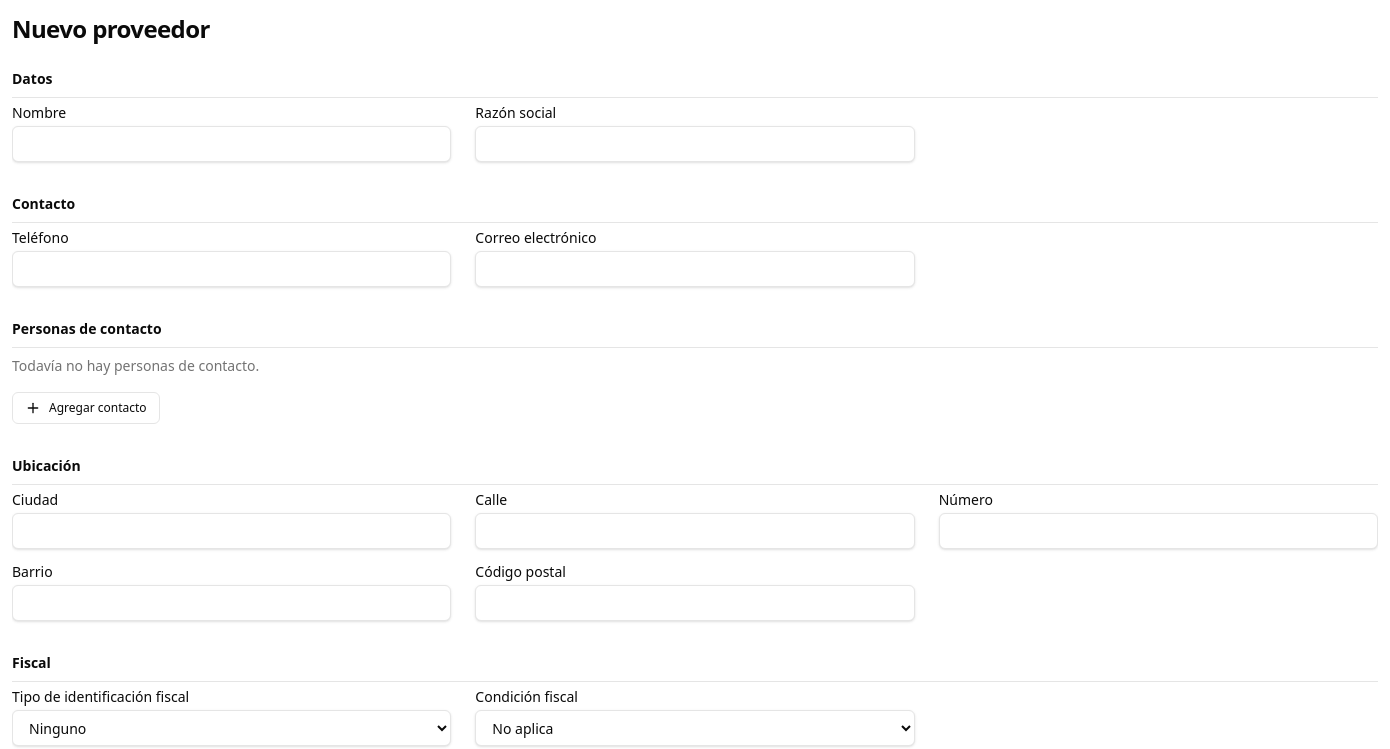
Test: SupplierForm › shows the server message for a 400
Type "Norte" into the field labelled "Nombre" at (232, 144), box [12,126,451,162]
(page scrolled)
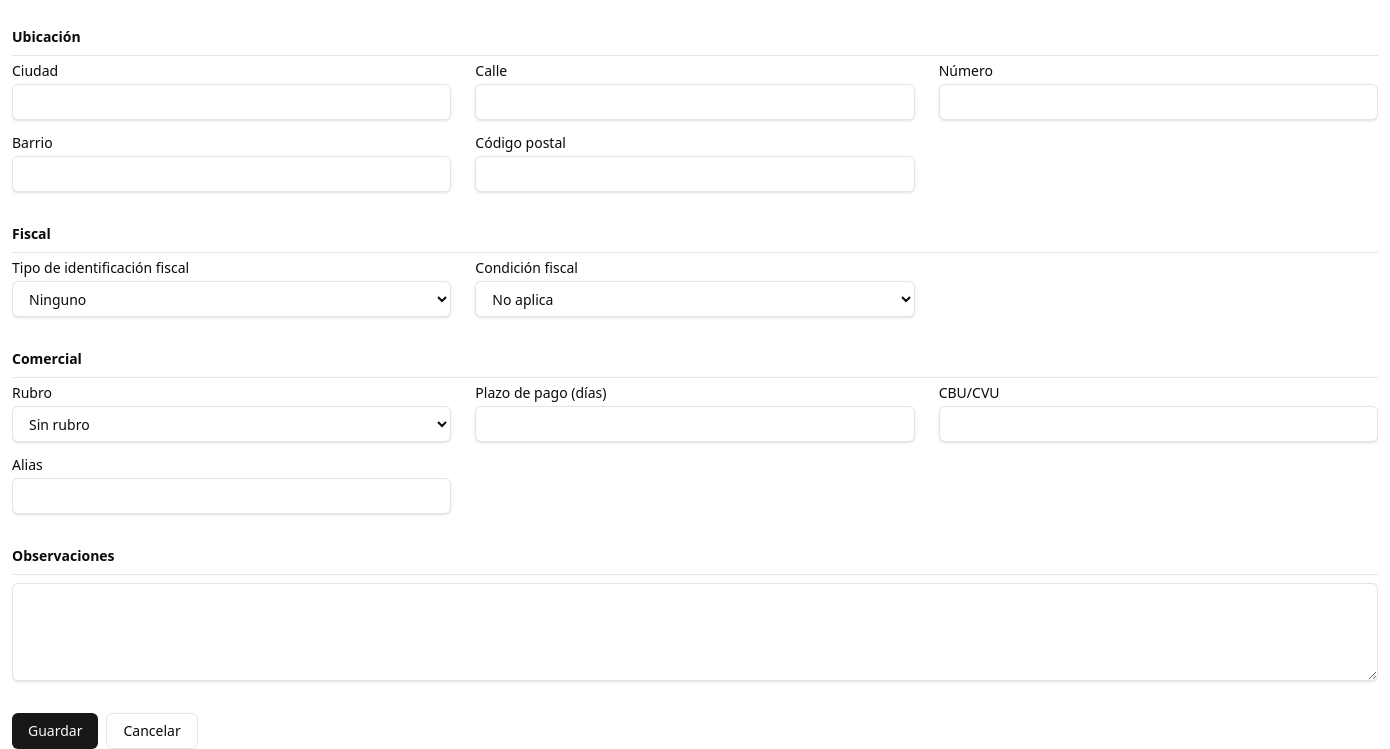
Click the button "Guardar" at (55, 731), box [12,713,98,748]
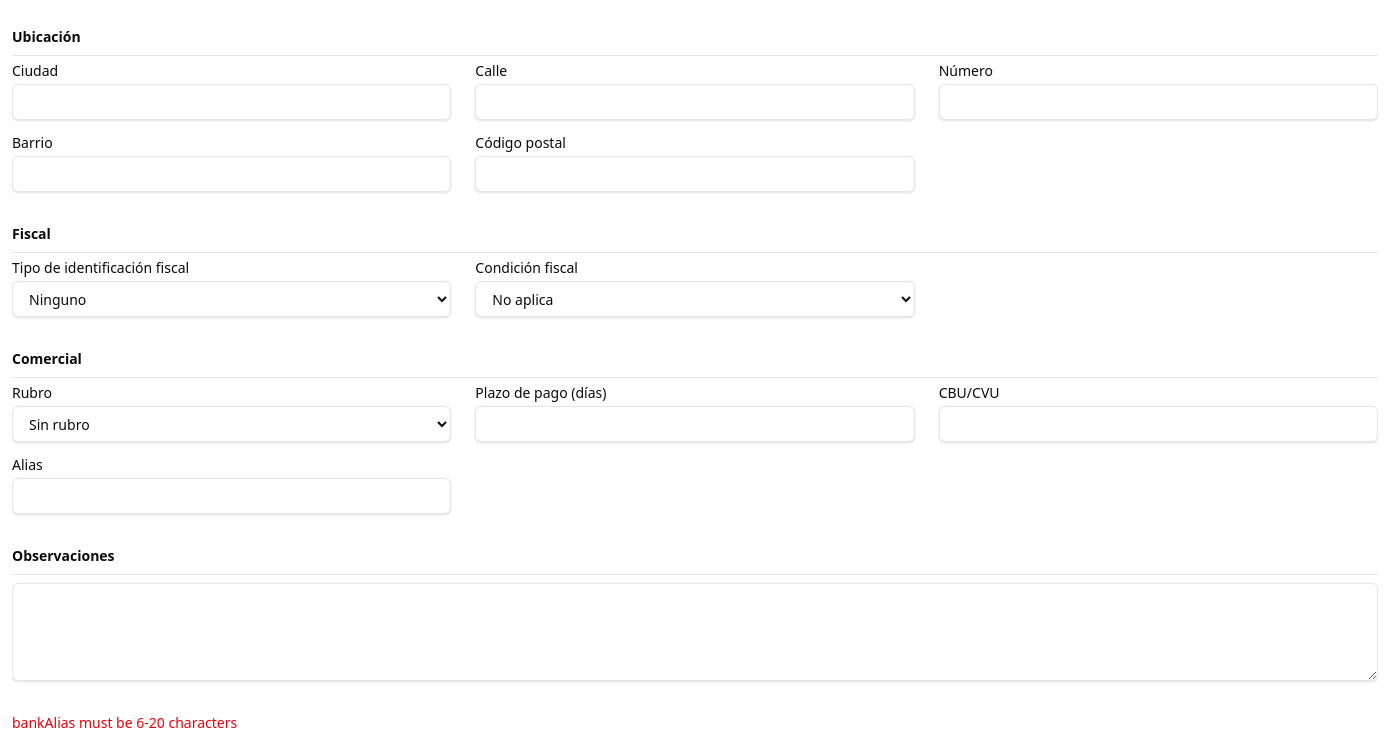
Now the message reads "bankAlias must be 6-20 characters", box [12,713,237,732]
